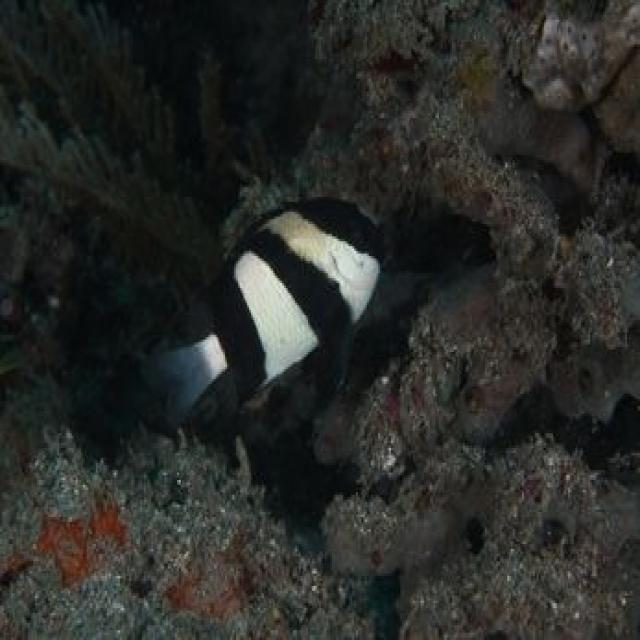ThreeStripedDamselfish: (151, 189, 386, 421)
